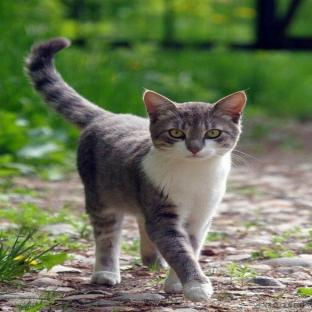Animal: (26, 38, 246, 302)
